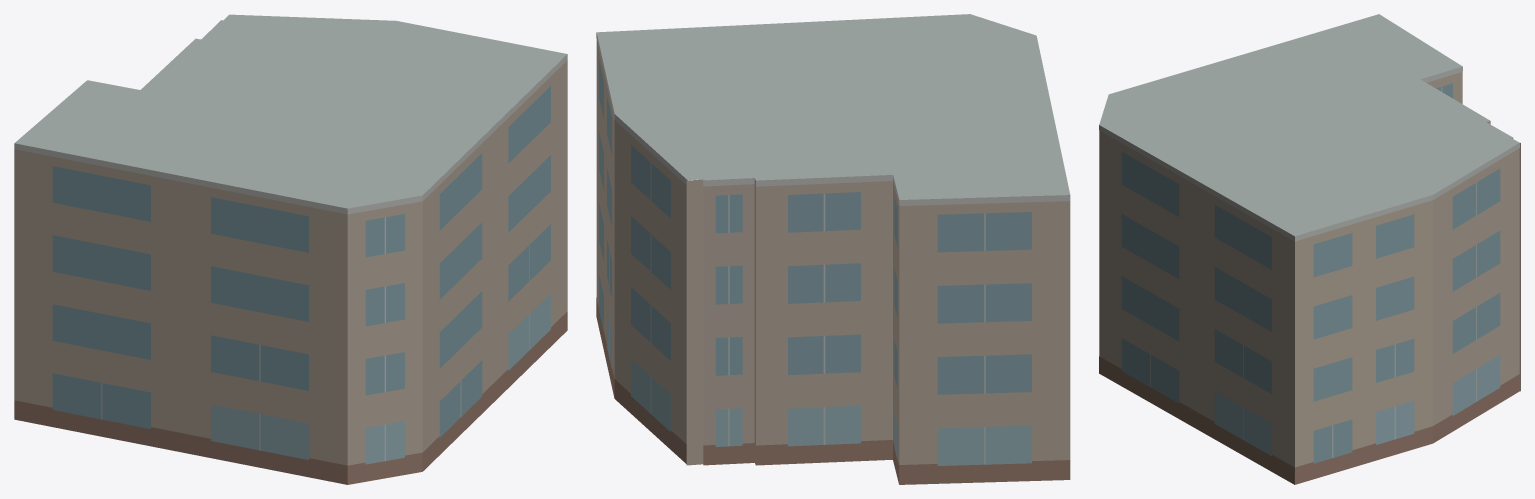
File: survey-upis-32781462.glb
The picture shows the model from 3 angles, left to right: view 1: azimuth 30°, elevation 25°; view 2: azimuth 150°, elevation 25°; view 3: azimuth 270°, elevation 25°; orthographic projection. The views are drawn at different scales.
Parts seen in each view (by area): view 1: survey-upis-32781462.tmp; view 2: survey-upis-32781462.tmp; view 3: survey-upis-32781462.tmp.
Boxes of the visible parts, box(x1,y1,x2,y2) form: survey-upis-32781462.tmp: box(14, 14, 567, 484); survey-upis-32781462.tmp: box(596, 14, 1070, 484); survey-upis-32781462.tmp: box(1099, 14, 1520, 484).
Bounding box in the file's own units: 22.07 × 11.5 × 17.69.
